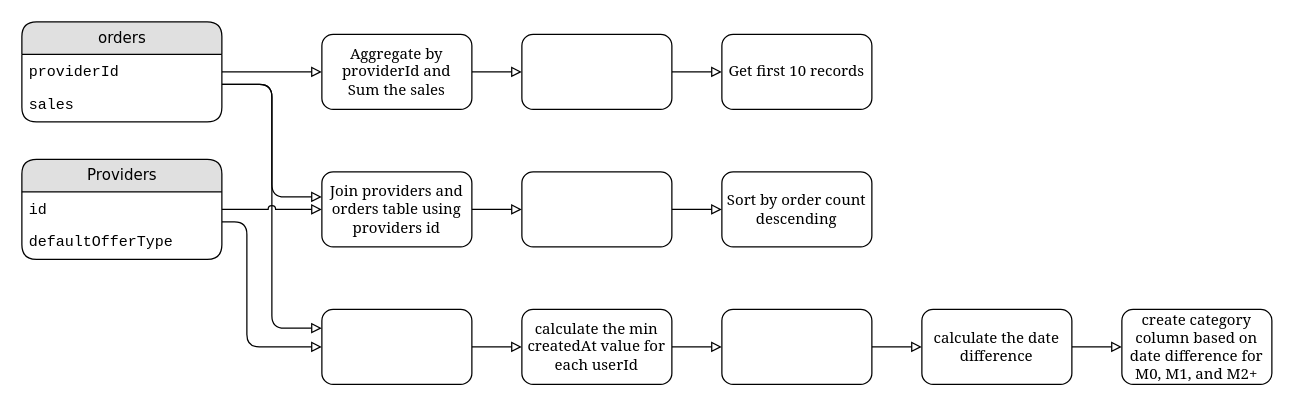
This 1294x406 diagram has some shape labels left out. Each missing label, with the centre of its shape:
Aggregate by defaultOfferType and count the orders: the point at 596,209
Keep the rows with row number equals to 2: the point at 796,346
Sort by sum of sales descending: the point at 596,71
Sort orders by userId and createdAt, generate row number: the point at 396,346
